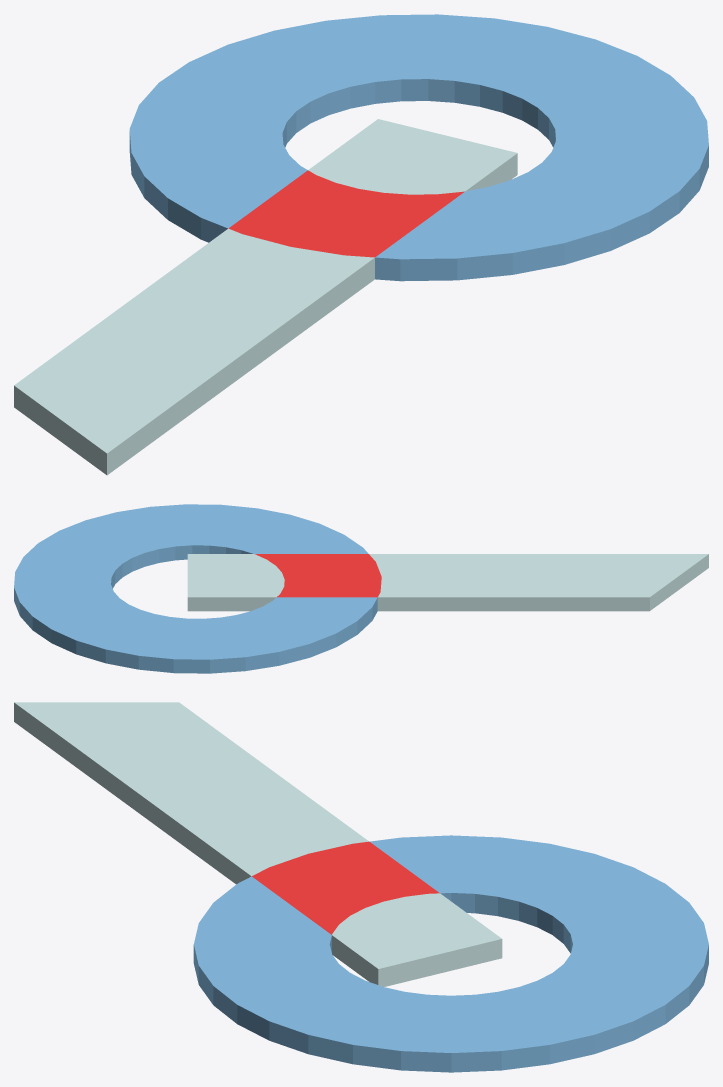
File: oblique-aperture-column-diagnostic.actual.glb
The picture shows the model from 3 angles, top to bottom: view 1: azimuth 30°, elevation 25°; view 2: azimuth 150°, elevation 25°; view 3: azimuth 270°, elevation 25°; orthographic projection. The views are drawn at different scales.
Parts seen in each view (by area): view 1: surviving-column, aperture-tool, intersection-highlight; view 2: surviving-column, aperture-tool, intersection-highlight; view 3: surviving-column, aperture-tool, intersection-highlight.
Part boxes in pixels (<box>): surviving-column: <box>129,14,708,281</box>; aperture-tool: <box>14,119,517,475</box>; intersection-highlight: <box>228,170,464,257</box>; surviving-column: <box>14,504,377,673</box>; aperture-tool: <box>187,554,708,611</box>; intersection-highlight: <box>255,554,381,597</box>; surviving-column: <box>193,835,708,1072</box>; aperture-tool: <box>14,702,502,986</box>; intersection-highlight: <box>252,841,439,934</box>.
Bounding box in the file's own units: 11.6 × 0.3 × 9.71.
